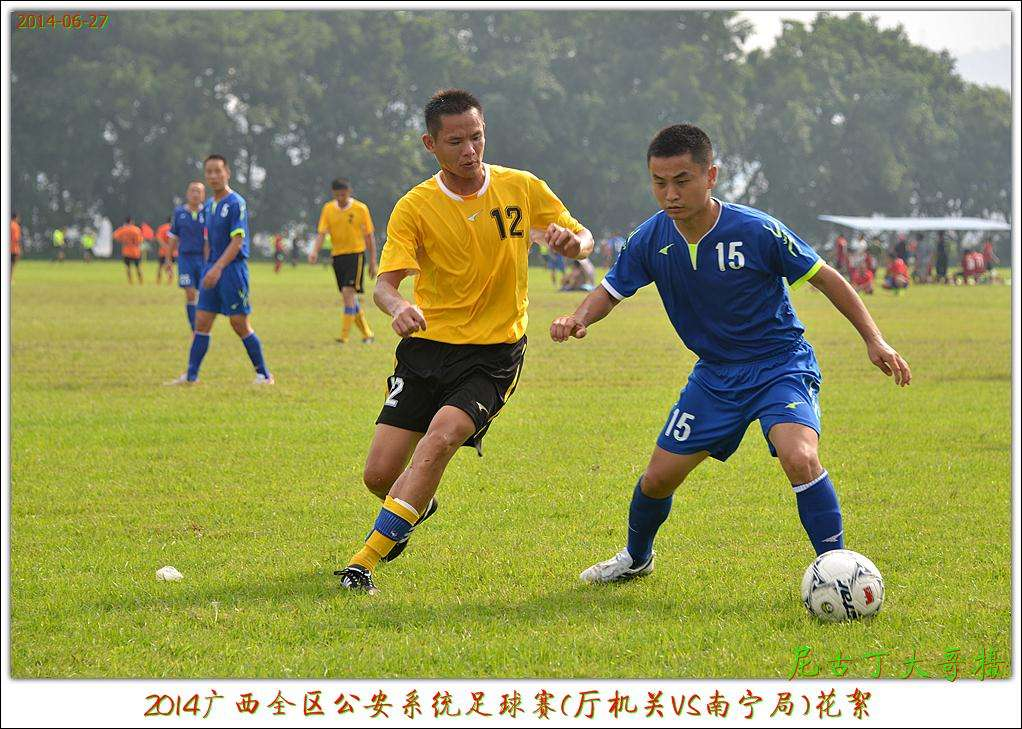football: (802, 549, 885, 627)
